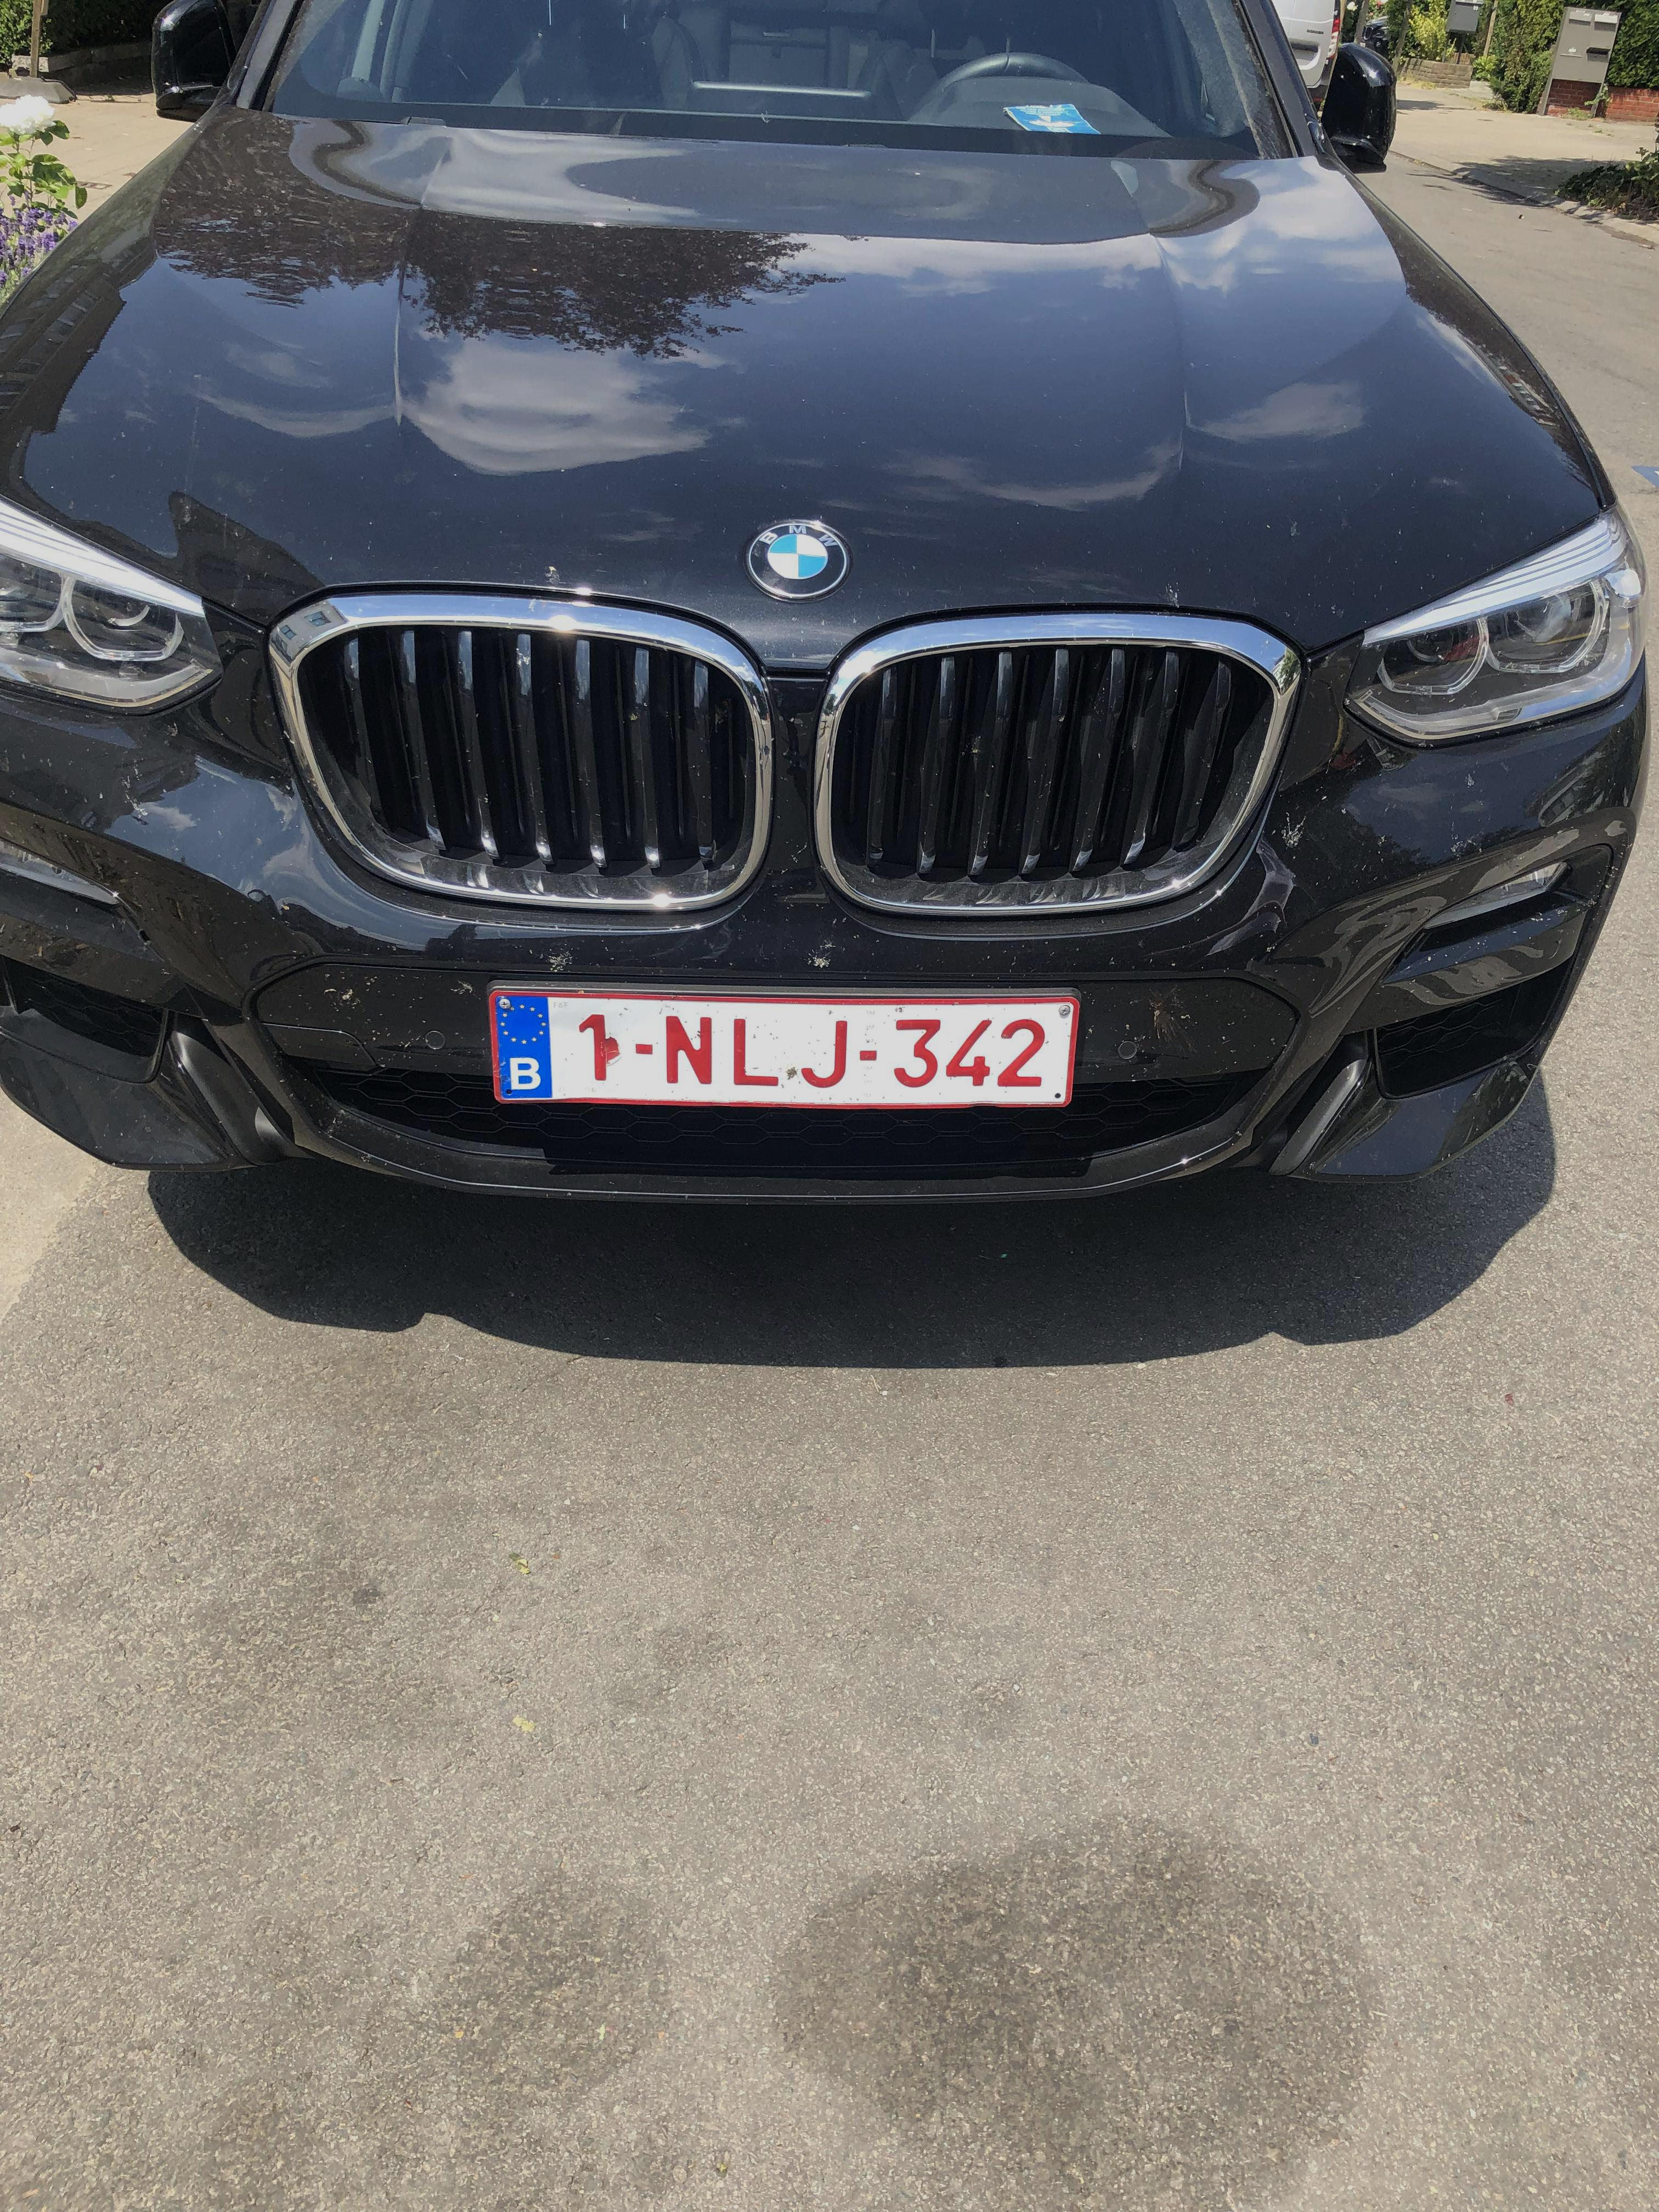plate: (455, 968, 1116, 1135)
